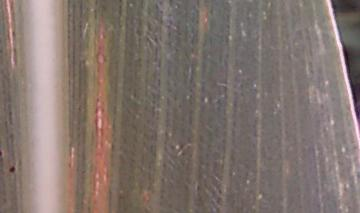tarspot: (7, 162, 17, 175), (1, 149, 5, 161)
